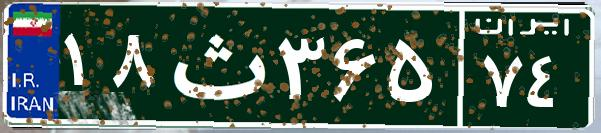1: (57, 26, 110, 107)
3: (273, 28, 330, 110)
4: (525, 38, 570, 115)
5: (385, 28, 445, 110)
6: (330, 28, 385, 110)
7: (475, 38, 525, 113)
8: (110, 28, 158, 105)
ث: (158, 15, 273, 115)
